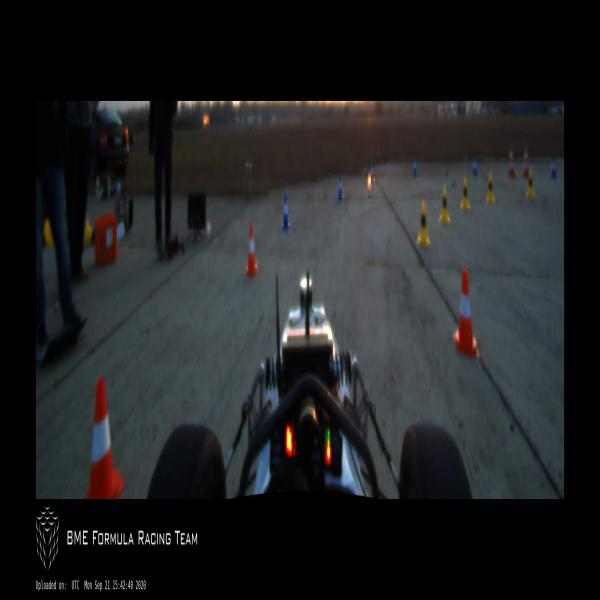blue_cone: (281, 194, 289, 230), (336, 174, 344, 200), (472, 154, 478, 179), (550, 158, 556, 180), (412, 157, 418, 176), (369, 162, 374, 184)
large_orange_cone: (508, 144, 516, 179), (522, 143, 529, 177)
orange_cone: (85, 376, 126, 498), (454, 269, 477, 356), (245, 224, 258, 278)
yellow_cone: (417, 200, 430, 244), (438, 185, 451, 226), (461, 176, 470, 212), (485, 173, 494, 205), (526, 170, 534, 201)
